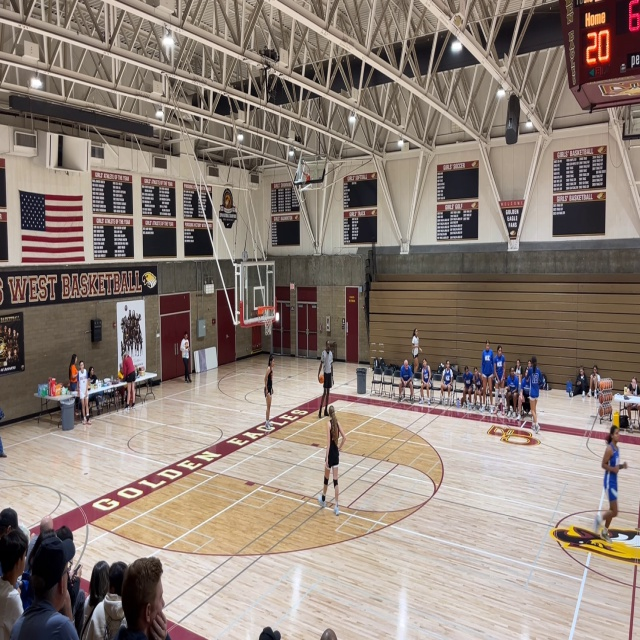Basketball: (318, 373, 324, 383)
